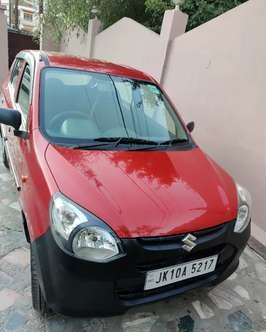JK10A5217: (143, 254, 219, 291)
